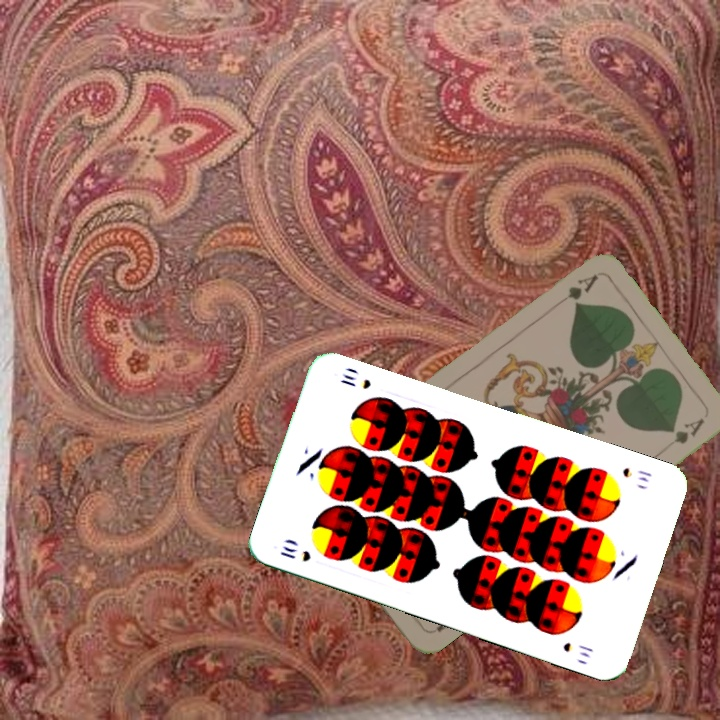GA: (548, 270, 600, 312)
S10: (275, 541, 314, 565), (618, 463, 654, 485)
